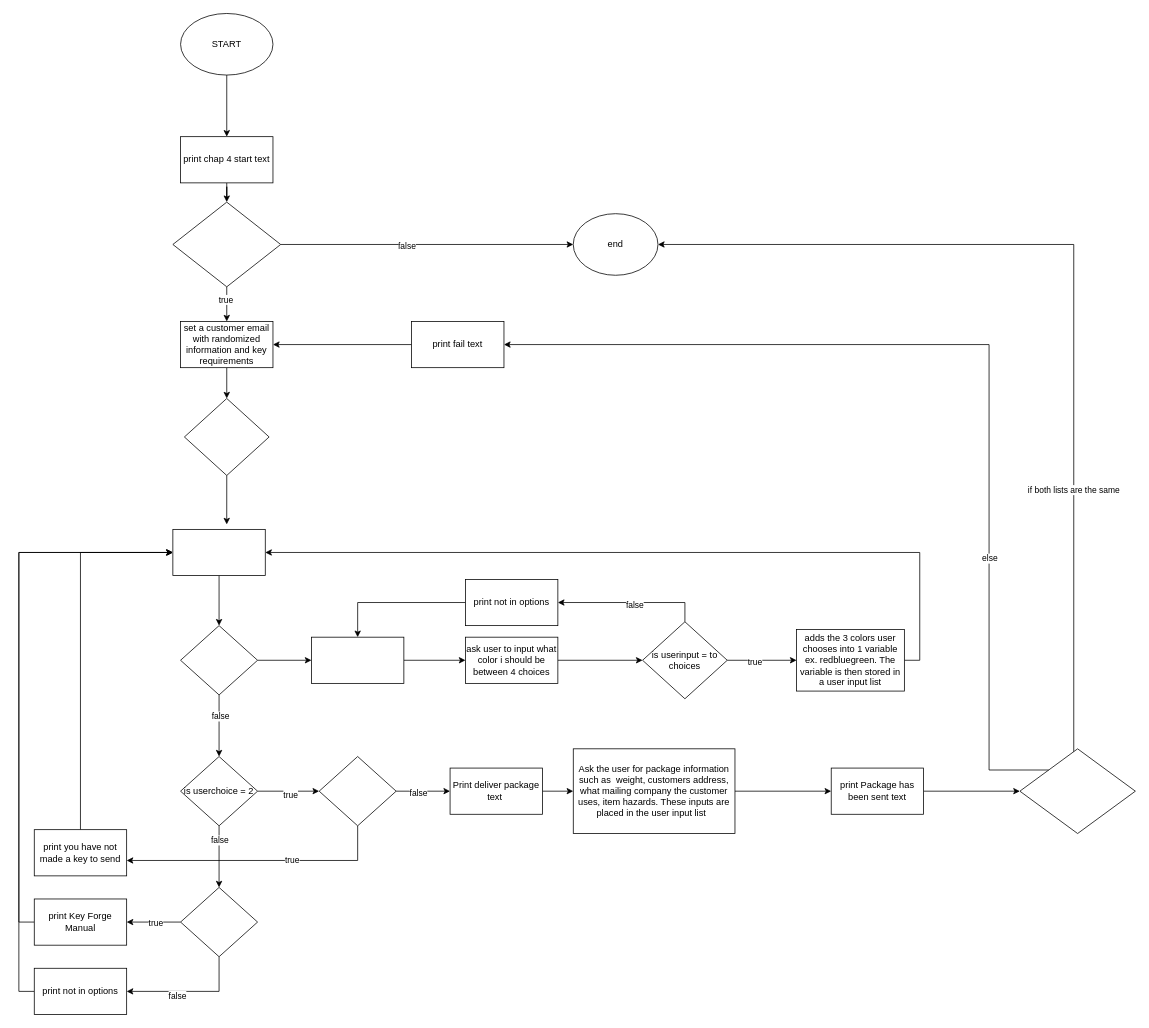
Some shapes in this 1149 by 1028 pixel diagram are drawn without their labels. The centre of each missing label's shape, as x and y in pixels:
chap4_completed = false: (226,244)
compares user input list to correct input list: (1077,791)
for i in parts list: (357,659)
is key variable empty?: (357,791)
is userchoice = 1: (219,660)
is userchoice = 3: (219,922)
print 3 options: (218,552)
while = encounter is happening: (226,436)
